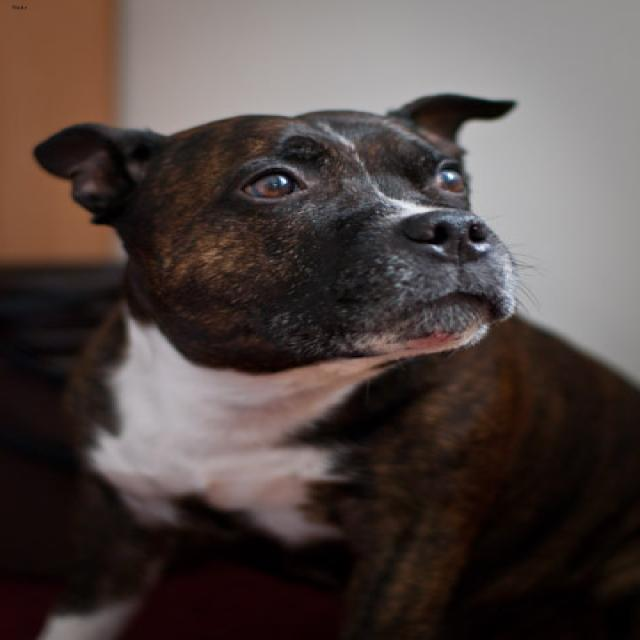dog-staffordshire_bull_terrier: (12, 81, 636, 637)
